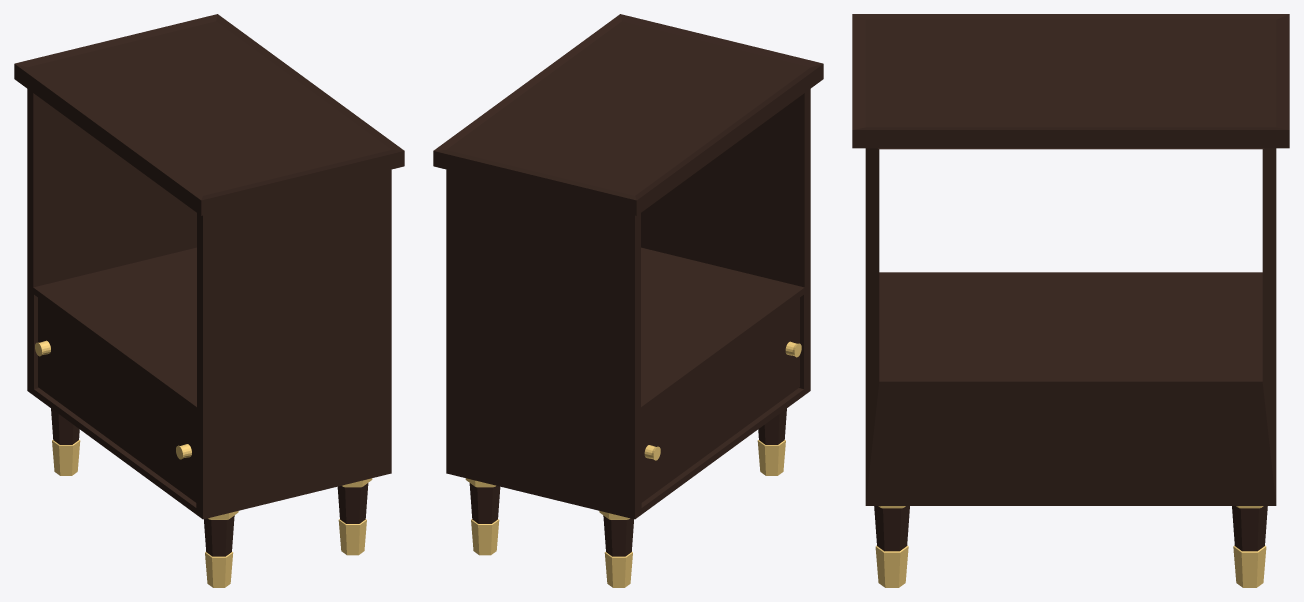
The model's file is комод маленький спальня.fbx.
The picture shows the model from 3 angles, left to right: view 1: azimuth 30°, elevation 25°; view 2: azimuth 150°, elevation 25°; view 3: azimuth 270°, elevation 25°; orthographic projection. The views are drawn at different scales.
Parts seen in each view (by area): view 1: Cylinder.045; view 2: Cylinder.045; view 3: Cylinder.045.
Part boxes in pixels (x1,y1,x2,y2): Cylinder.045: (14,14,404,587); Cylinder.045: (433,14,823,587); Cylinder.045: (852,14,1289,587).
Size of the model in its own units: 564 by 1072 by 898.
